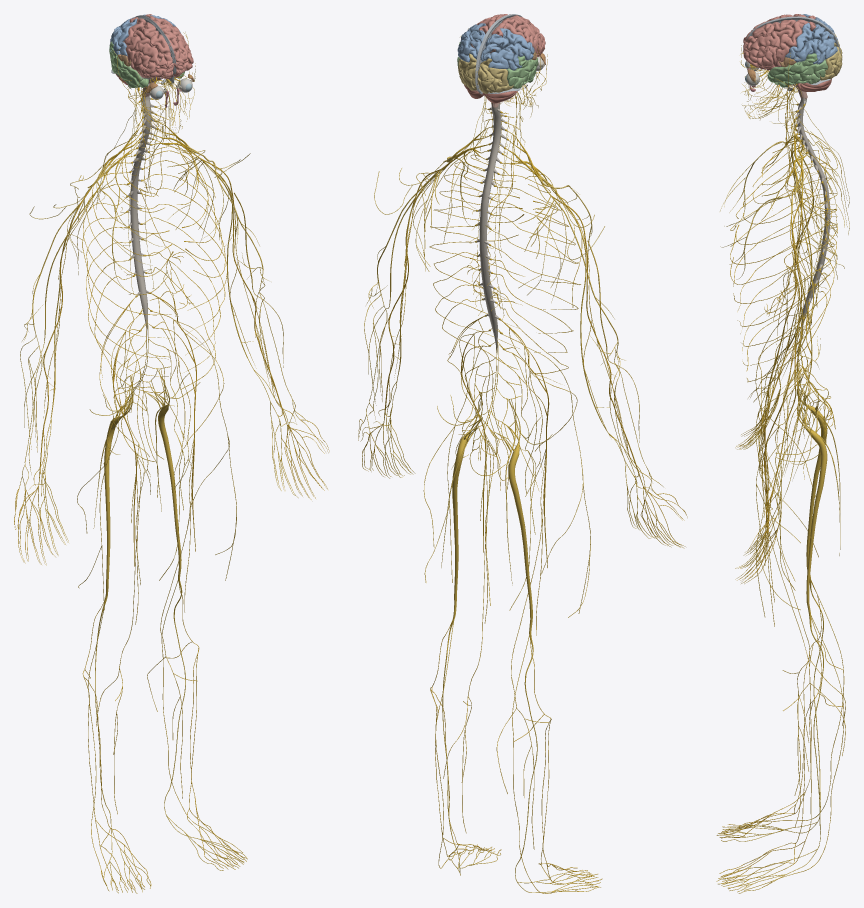
The model's file is nerves.glb.
3 views of the same model, side by side, from view 1: azimuth 30°, elevation 25°; view 2: azimuth 150°, elevation 25°; view 3: azimuth 270°, elevation 25° (orthographic). The views are drawn at different scales.
Visible parts, largest first — view 1: n464, n195, n194, n457, n456, n288; view 2: n464, n194, n195, n457, n456; view 3: n194, n464, n195, n456, n457, n287, n454, n222, n277, n289, n422, n455 (+17 smaller).
Part boxes in pixels (x1,y1,x2,y2): n464: (128,95,156,334); n195: (82,149,173,392); n194: (141,143,227,389); n457: (104,376,132,595); n456: (146,369,181,577); n288: (133,30,166,74); n464: (476,104,506,352); n194: (429,154,524,369); n195: (491,163,580,373); n457: (497,399,532,632); n456: (452,392,481,613); n194: (730,154,837,382); n464: (796,96,830,331); n195: (730,140,837,371); n456: (797,384,827,612); n457: (797,370,827,577); n287: (744,29,794,62); n454: (761,453,845,827); n222: (755,340,818,617); n277: (769,198,802,508); n289: (773,59,827,82); n422: (775,21,804,62); n455: (762,423,845,795).
Bounding box in the file's own units: 66.75 × 169 × 24.25.
